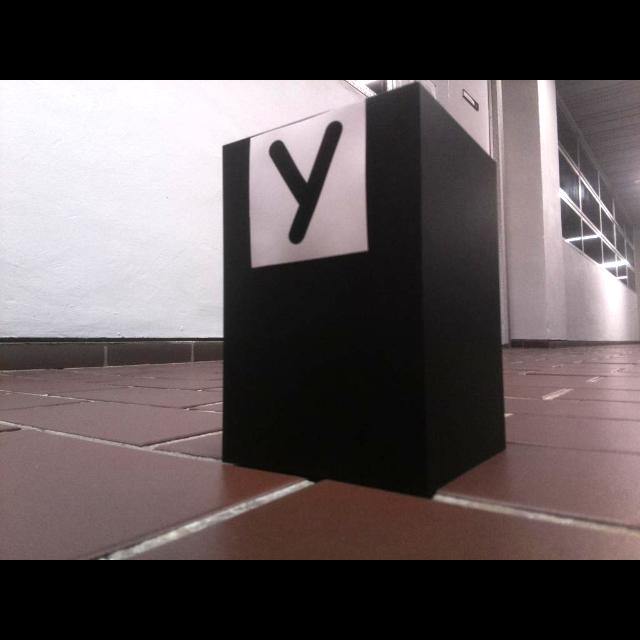Y: (269, 121, 342, 244)
